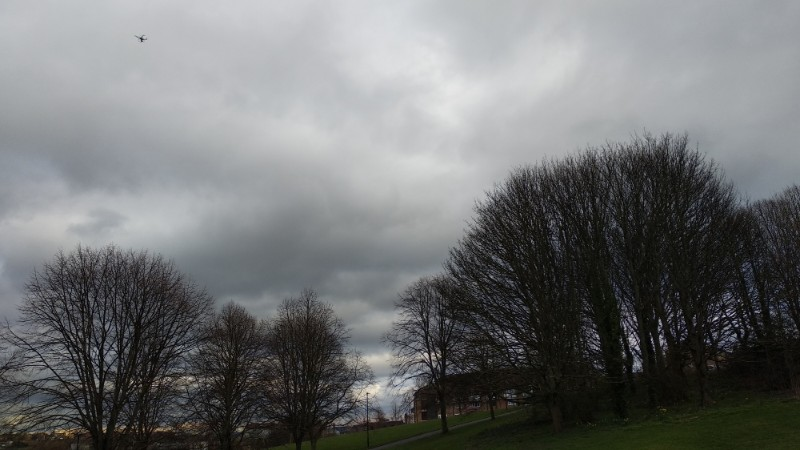drone: (135, 34, 147, 44)
